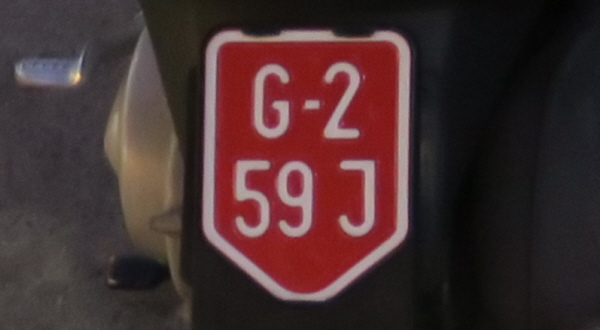license_plate: (204, 28, 411, 303)
